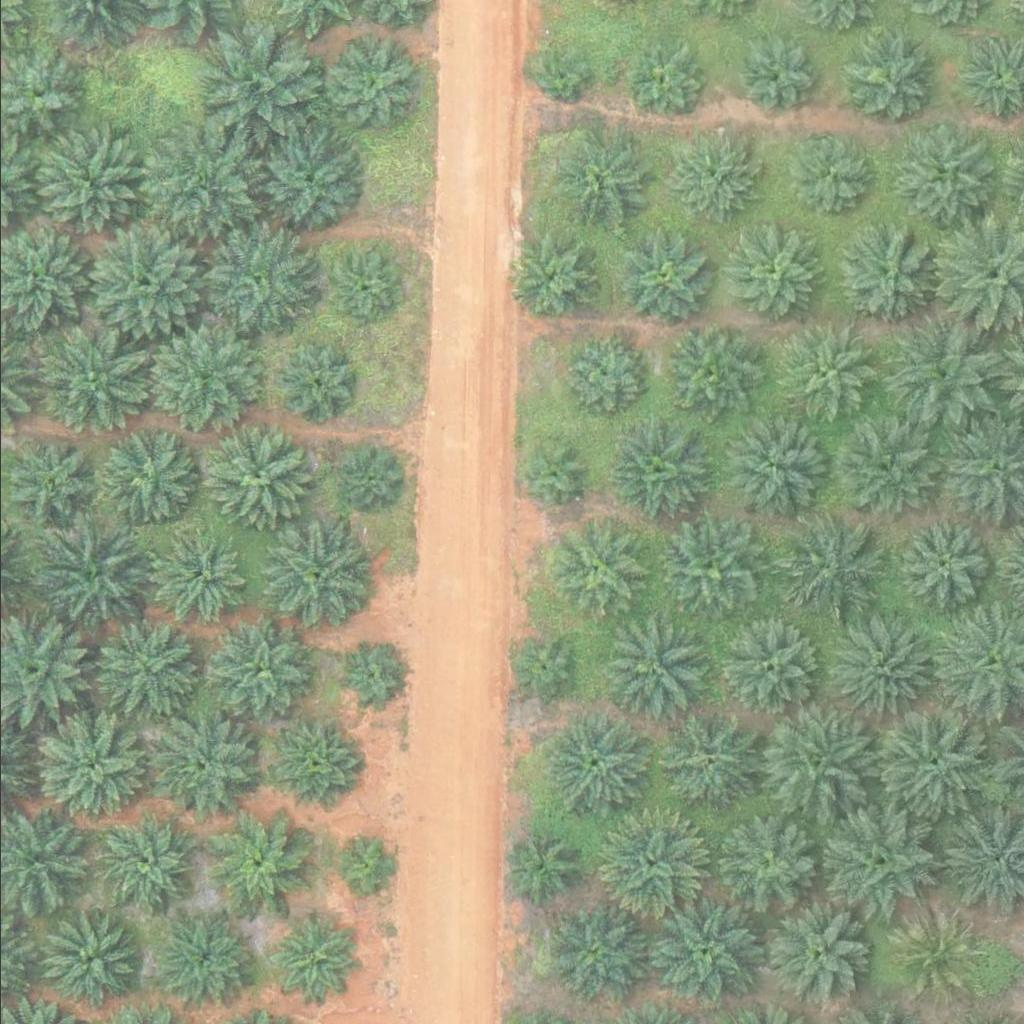Kelapa_Sawit: (192, 21, 318, 146), (133, 124, 259, 249), (26, 319, 152, 444), (35, 510, 161, 635), (24, 706, 149, 831), (821, 807, 935, 920), (27, 130, 141, 243), (649, 896, 762, 1009), (146, 322, 259, 435), (880, 707, 994, 819), (89, 225, 203, 337), (588, 809, 701, 921), (756, 704, 869, 816), (887, 320, 1000, 432), (205, 220, 318, 332), (543, 903, 644, 1003), (652, 712, 753, 812), (545, 716, 646, 816), (829, 618, 930, 718), (716, 619, 817, 719), (607, 619, 708, 719), (784, 518, 885, 618), (658, 520, 759, 620), (546, 520, 647, 620), (834, 426, 935, 526), (726, 420, 827, 520), (604, 421, 705, 521), (777, 327, 878, 427), (660, 326, 761, 426), (835, 225, 936, 325), (719, 224, 820, 324), (891, 128, 992, 228), (208, 427, 309, 527), (93, 426, 194, 526), (267, 529, 368, 629), (146, 523, 247, 623), (210, 620, 311, 720), (98, 620, 199, 720), (153, 715, 254, 815), (206, 817, 307, 917), (91, 812, 192, 912), (154, 909, 255, 1009), (38, 911, 139, 1011), (763, 907, 863, 1007), (713, 813, 813, 913), (503, 227, 603, 327), (553, 133, 653, 233), (255, 128, 355, 228), (885, 912, 973, 1000), (559, 332, 647, 420), (267, 914, 355, 1002), (895, 520, 983, 607), (619, 237, 707, 324), (788, 131, 876, 218), (676, 133, 764, 220), (839, 36, 927, 123), (326, 38, 414, 125), (270, 726, 358, 813), (736, 36, 812, 111), (321, 249, 397, 324), (512, 438, 588, 513), (627, 43, 703, 118), (278, 346, 353, 421), (499, 830, 574, 905), (505, 634, 580, 709), (336, 447, 399, 510), (527, 45, 590, 107), (338, 647, 401, 709), (337, 833, 400, 895)
